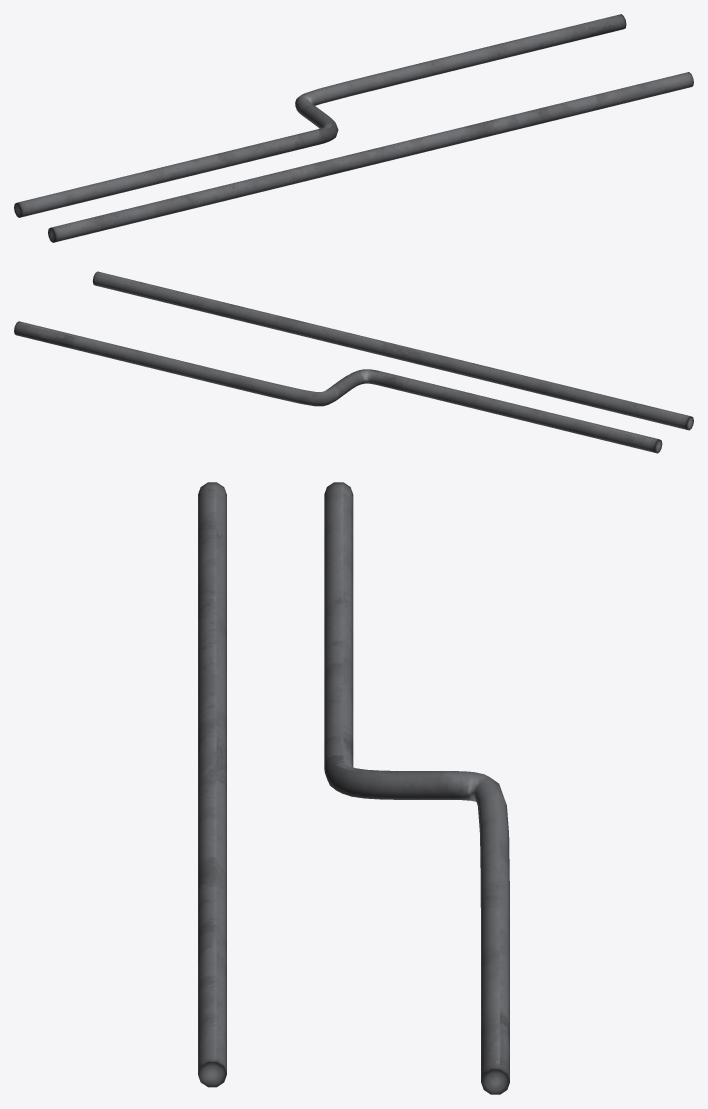
The model's file is Factory_Pipes.fbx.
The picture shows the model from 3 angles, top to bottom: view 1: azimuth 30°, elevation 25°; view 2: azimuth 150°, elevation 25°; view 3: azimuth 270°, elevation 25°; orthographic projection. The views are drawn at different scales.
Parts seen in each view (by area): view 1: NurbsPath.005, NurbsPath.006; view 2: NurbsPath.005, NurbsPath.006; view 3: NurbsPath.005, NurbsPath.006.
Part boxes in pixels (bbox=[...]): NurbsPath.005: bbox=[14, 14, 626, 217]; NurbsPath.006: bbox=[48, 72, 693, 242]; NurbsPath.005: bbox=[14, 321, 662, 453]; NurbsPath.006: bbox=[92, 271, 693, 430]; NurbsPath.005: bbox=[324, 482, 509, 1094]; NurbsPath.006: bbox=[198, 482, 226, 1087].
Bounding box in the file's own units: 3702 × 74.4 × 832.
1 material, 1 textured.
